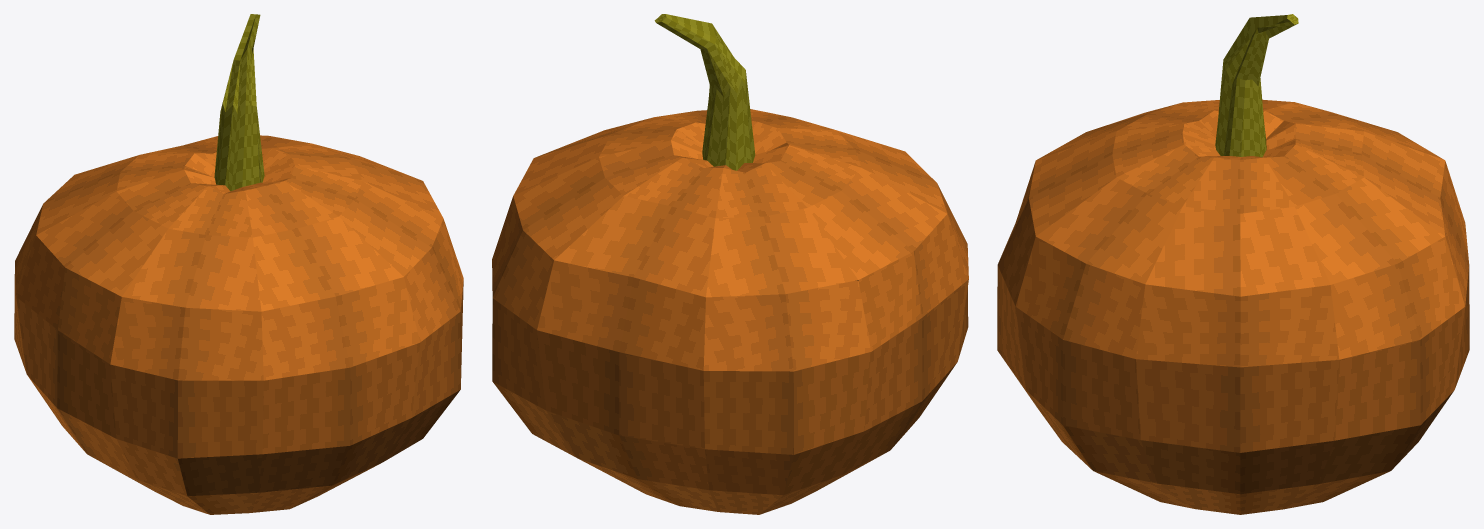
The model's file is citrouille.glb.
3 renders of one model, left to right at view 1: azimuth 30°, elevation 25°; view 2: azimuth 150°, elevation 25°; view 3: azimuth 270°, elevation 25°, orthographic. The views are drawn at different scales.
Visible parts, largest first — view 1: Plane.003; view 2: Plane.003; view 3: Plane.003.
Boxes of the visible parts, x1,y1,x2,y2 form: Plane.003: [14, 14, 463, 514]; Plane.003: [492, 14, 968, 514]; Plane.003: [997, 14, 1469, 514].
Bounding box in the file's own units: 2.05 × 2.26 × 2.05.
Materials: 1 (1 with a texture image).
